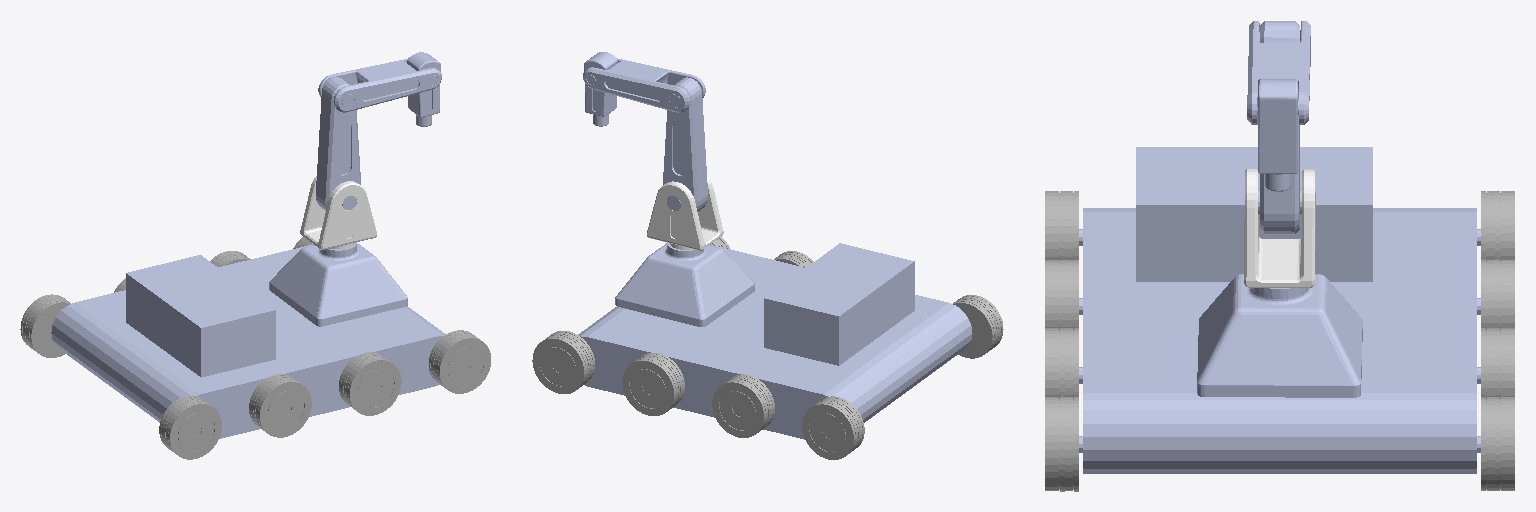
The robot description file, URDF, robot "Robot_Assembly_urdf":
<?xml version="1.0" encoding="utf-8"?>
<!-- This URDF was automatically created by SolidWorks to URDF Exporter! Originally created by [author] ([email redacted]) 
     Commit Version: 1.6.0-1-g15f4949  Build Version: 1.6.7594.29634
     For more information, please see http://wiki.ros.org/sw_urdf_exporter -->
<robot
  name="Robot_Assembly_urdf">
  <link
    name="base_link">
    <inertial>
      <origin
        xyz="-0.0188294056308936 -0.00424042114001033 0.0640742409147315"
        rpy="0 0 0" />
      <mass
        value="31.0320339728617" />
      <inertia
        ixx="0.565958898785793"
        ixy="-0.0151505883127099"
        ixz="0.0502324289297227"
        iyy="0.886935849980712"
        iyz="0.0113068755075638"
        izz="1.32772548603042" />
    </inertial>
    <visual>
      <origin
        xyz="0 0 0"
        rpy="0 0 0" />
      <geometry>
        <mesh
          filename="package://Robot_Assembly_urdf/meshes/base_link.STL" />
      </geometry>
      <material
        name="">
        <color
          rgba="0.792156862745098 0.819607843137255 0.933333333333333 1" />
      </material>
    </visual>
    <collision>
      <origin
        xyz="0 0 0"
        rpy="0 0 0" />
      <geometry>
        <mesh
          filename="package://Robot_Assembly_urdf/meshes/base_link.STL" />
      </geometry>
    </collision>
  </link>
  <link
    name="rwl_1">
    <inertial>
      <origin
        xyz="5.55111512312578E-17 -5.55111512312578E-17 -0.019892784140451"
        rpy="0 0 0" />
      <mass
        value="0.365524552938848" />
      <inertia
        ixx="0.000322146824462347"
        ixy="-8.09674537746819E-20"
        ixz="-1.56492304462249E-20"
        iyy="0.000322146824462347"
        iyz="4.53082169817295E-21"
        izz="0.000549435522875278" />
    </inertial>
    <visual>
      <origin
        xyz="0 0 0"
        rpy="0 0 0" />
      <geometry>
        <mesh
          filename="package://Robot_Assembly_urdf/meshes/rwl_1.STL" />
      </geometry>
      <material
        name="">
        <color
          rgba="0.752941176470588 0.752941176470588 0.752941176470588 1" />
      </material>
    </visual>
    <collision>
      <origin
        xyz="0 0 0"
        rpy="0 0 0" />
      <geometry>
        <mesh
          filename="package://Robot_Assembly_urdf/meshes/rwl_1.STL" />
      </geometry>
    </collision>
  </link>
  <joint
    name="rwj_1"
    type="revolute">
    <origin
      xyz="0.285 -0.274 0.05"
      rpy="1.5708 0 0" />
    <parent
      link="base_link" />
    <child
      link="rwl_1" />
    <axis
      xyz="0 0 1" />
    <limit
      lower="-3.142"
      upper="3.142"
      effort="20"
      velocity="5" />
  </joint>
  <link
    name="lwl_1">
    <inertial>
      <origin
        xyz="-5.55111512312578E-17 5.55111512312578E-17 0.0188927841404509"
        rpy="0 0 0" />
      <mass
        value="0.365524552938848" />
      <inertia
        ixx="0.000322146824462347"
        ixy="-9.82852608948411E-21"
        ixz="-3.42124149900002E-20"
        iyy="0.000322146824462347"
        iyz="7.20065742206241E-20"
        izz="0.000549435522875278" />
    </inertial>
    <visual>
      <origin
        xyz="0 0 0"
        rpy="0 0 0" />
      <geometry>
        <mesh
          filename="package://Robot_Assembly_urdf/meshes/lwl_1.STL" />
      </geometry>
      <material
        name="">
        <color
          rgba="0.752941176470588 0.752941176470588 0.752941176470588 1" />
      </material>
    </visual>
    <collision>
      <origin
        xyz="0 0 0"
        rpy="0 0 0" />
      <geometry>
        <mesh
          filename="package://Robot_Assembly_urdf/meshes/lwl_1.STL" />
      </geometry>
    </collision>
  </link>
  <joint
    name="lwj_1"
    type="revolute">
    <origin
      xyz="0.285 0.273 0.05"
      rpy="1.5708 0 0" />
    <parent
      link="base_link" />
    <child
      link="lwl_1" />
    <axis
      xyz="0 0 -1" />
    <limit
      lower="-3.142"
      upper="3.142"
      effort="20"
      velocity="5" />
  </joint>
  <link
    name="rwl_2">
    <inertial>
      <origin
        xyz="0 0 -0.0198927841404509"
        rpy="0 0 0" />
      <mass
        value="0.365524552938848" />
      <inertia
        ixx="0.000322146824462348"
        ixy="4.17711733678562E-22"
        ixz="-2.36592215475959E-20"
        iyy="0.000322146824462347"
        iyz="-1.23407737259737E-22"
        izz="0.000549435522875279" />
    </inertial>
    <visual>
      <origin
        xyz="0 0 0"
        rpy="0 0 0" />
      <geometry>
        <mesh
          filename="package://Robot_Assembly_urdf/meshes/rwl_2.STL" />
      </geometry>
      <material
        name="">
        <color
          rgba="0.752941176470588 0.752941176470588 0.752941176470588 1" />
      </material>
    </visual>
    <collision>
      <origin
        xyz="0 0 0"
        rpy="0 0 0" />
      <geometry>
        <mesh
          filename="package://Robot_Assembly_urdf/meshes/rwl_2.STL" />
      </geometry>
    </collision>
  </link>
  <joint
    name="rwj_2"
    type="revolute">
    <origin
      xyz="0.095 -0.274 0.0499999999999998"
      rpy="1.5707963267949 0 0" />
    <parent
      link="base_link" />
    <child
      link="rwl_2" />
    <axis
      xyz="0 0 1" />
    <limit
      lower="-3.142"
      upper="3.142"
      effort="20"
      velocity="5" />
  </joint>
  <link
    name="lwl_2">
    <inertial>
      <origin
        xyz="-5.55111512312578E-17 2.22044604925031E-16 0.018892784140451"
        rpy="0 0 0" />
      <mass
        value="0.365524552938848" />
      <inertia
        ixx="0.000322146824462347"
        ixy="1.46937132839652E-20"
        ixz="-7.4253389579514E-20"
        iyy="0.000322146824462347"
        iyz="4.17880014772499E-20"
        izz="0.000549435522875278" />
    </inertial>
    <visual>
      <origin
        xyz="0 0 0"
        rpy="0 0 0" />
      <geometry>
        <mesh
          filename="package://Robot_Assembly_urdf/meshes/lwl_2.STL" />
      </geometry>
      <material
        name="">
        <color
          rgba="0.752941176470588 0.752941176470588 0.752941176470588 1" />
      </material>
    </visual>
    <collision>
      <origin
        xyz="0 0 0"
        rpy="0 0 0" />
      <geometry>
        <mesh
          filename="package://Robot_Assembly_urdf/meshes/lwl_2.STL" />
      </geometry>
    </collision>
  </link>
  <joint
    name="lwj_2"
    type="revolute">
    <origin
      xyz="0.095 0.273 0.0499999999999998"
      rpy="1.5707963267949 0 0" />
    <parent
      link="base_link" />
    <child
      link="lwl_2" />
    <axis
      xyz="0 0 -1" />
    <limit
      lower="-3.142"
      upper="3.142"
      effort="20"
      velocity="5" />
  </joint>
  <link
    name="rwl_3">
    <inertial>
      <origin
        xyz="6.93889390390723E-18 -5.55111512312578E-17 -0.019892784140451"
        rpy="0 0 0" />
      <mass
        value="0.365524552938848" />
      <inertia
        ixx="0.000322146824462348"
        ixy="-1.62304834610031E-22"
        ixz="-1.2731733559271E-20"
        iyy="0.000322146824462348"
        iyz="2.03535873829037E-22"
        izz="0.000549435522875278" />
    </inertial>
    <visual>
      <origin
        xyz="0 0 0"
        rpy="0 0 0" />
      <geometry>
        <mesh
          filename="package://Robot_Assembly_urdf/meshes/rwl_3.STL" />
      </geometry>
      <material
        name="">
        <color
          rgba="0.752941176470588 0.752941176470588 0.752941176470588 1" />
      </material>
    </visual>
    <collision>
      <origin
        xyz="0 0 0"
        rpy="0 0 0" />
      <geometry>
        <mesh
          filename="package://Robot_Assembly_urdf/meshes/rwl_3.STL" />
      </geometry>
    </collision>
  </link>
  <joint
    name="rwj_3"
    type="revolute">
    <origin
      xyz="-0.095 -0.274 0.0499999999999999"
      rpy="1.5707963267949 0 0" />
    <parent
      link="base_link" />
    <child
      link="rwl_3" />
    <axis
      xyz="0 0 1" />
    <limit
      lower="-3.142"
      upper="3.142"
      effort="20"
      velocity="5" />
  </joint>
  <link
    name="lwl_3">
    <inertial>
      <origin
        xyz="-6.93889390390723E-17 2.22044604925031E-16 0.0188927841404511"
        rpy="0 0 0" />
      <mass
        value="0.365524552938848" />
      <inertia
        ixx="0.000322146824462347"
        ixy="-2.24217455227932E-21"
        ixz="-2.28467036272142E-20"
        iyy="0.000322146824462347"
        iyz="4.56494090163496E-20"
        izz="0.000549435522875278" />
    </inertial>
    <visual>
      <origin
        xyz="0 0 0"
        rpy="0 0 0" />
      <geometry>
        <mesh
          filename="package://Robot_Assembly_urdf/meshes/lwl_3.STL" />
      </geometry>
      <material
        name="">
        <color
          rgba="0.752941176470588 0.752941176470588 0.752941176470588 1" />
      </material>
    </visual>
    <collision>
      <origin
        xyz="0 0 0"
        rpy="0 0 0" />
      <geometry>
        <mesh
          filename="package://Robot_Assembly_urdf/meshes/lwl_3.STL" />
      </geometry>
    </collision>
  </link>
  <joint
    name="lwj_3"
    type="revolute">
    <origin
      xyz="-0.0949999999999999 0.273 0.0499999999999999"
      rpy="1.5707963267949 0 0" />
    <parent
      link="base_link" />
    <child
      link="lwl_3" />
    <axis
      xyz="0 0 -1" />
    <limit
      lower="-3.142"
      upper="3.142"
      effort="20"
      velocity="5" />
  </joint>
  <link
    name="rwl_4">
    <inertial>
      <origin
        xyz="2.77555756156289E-17 -5.55111512312578E-17 -0.0198927841404509"
        rpy="0 0 0" />
      <mass
        value="0.365524552938848" />
      <inertia
        ixx="0.000322146824462347"
        ixy="-8.12494296504006E-21"
        ixz="6.18409410860754E-21"
        iyy="0.000322146824462347"
        iyz="5.24692050943604E-21"
        izz="0.000549435522875278" />
    </inertial>
    <visual>
      <origin
        xyz="0 0 0"
        rpy="0 0 0" />
      <geometry>
        <mesh
          filename="package://Robot_Assembly_urdf/meshes/rwl_4.STL" />
      </geometry>
      <material
        name="">
        <color
          rgba="0.752941176470588 0.752941176470588 0.752941176470588 1" />
      </material>
    </visual>
    <collision>
      <origin
        xyz="0 0 0"
        rpy="0 0 0" />
      <geometry>
        <mesh
          filename="package://Robot_Assembly_urdf/meshes/rwl_4.STL" />
      </geometry>
    </collision>
  </link>
  <joint
    name="rwj_4"
    type="revolute">
    <origin
      xyz="-0.285 -0.274 0.0499999999999999"
      rpy="1.5707963267949 0 0" />
    <parent
      link="base_link" />
    <child
      link="rwl_4" />
    <axis
      xyz="0 0 1" />
    <limit
      lower="-3.142"
      upper="3.142"
      effort="20"
      velocity="5" />
  </joint>
  <link
    name="lwl_4">
    <inertial>
      <origin
        xyz="-1.66533453693773E-16 2.22044604925031E-16 0.0188927841404508"
        rpy="0 0 0" />
      <mass
        value="0.365524552938848" />
      <inertia
        ixx="0.000322146824462347"
        ixy="2.19601697798653E-20"
        ixz="-1.14802424331746E-20"
        iyy="0.000322146824462347"
        iyz="5.35385294899972E-20"
        izz="0.000549435522875277" />
    </inertial>
    <visual>
      <origin
        xyz="0 0 0"
        rpy="0 0 0" />
      <geometry>
        <mesh
          filename="package://Robot_Assembly_urdf/meshes/lwl_4.STL" />
      </geometry>
      <material
        name="">
        <color
          rgba="0.752941176470588 0.752941176470588 0.752941176470588 1" />
      </material>
    </visual>
    <collision>
      <origin
        xyz="0 0 0"
        rpy="0 0 0" />
      <geometry>
        <mesh
          filename="package://Robot_Assembly_urdf/meshes/lwl_4.STL" />
      </geometry>
    </collision>
  </link>
  <joint
    name="lwj_4"
    type="revolute">
    <origin
      xyz="-0.285 0.273 0.0499999999999999"
      rpy="1.5707963267949 0 0" />
    <parent
      link="base_link" />
    <child
      link="lwl_4" />
    <axis
      xyz="0 0 -1" />
    <limit
      lower="-3.142"
      upper="3.142"
      effort="20"
      velocity="5" />
  </joint>
  <link
    name="robotichandbase_Link">
    <inertial>
      <origin
        xyz="0.46 0.0914369156086379 0.273"
        rpy="0 0 0" />
      <mass
        value="2.30055456196887" />
      <inertia
        ixx="0.00675445543919116"
        ixy="9.95871935182872E-19"
        ixz="2.37960604275706E-11"
        iyy="0.0103948670468881"
        iyz="2.23587162465854E-18"
        izz="0.00675445488587375" />
    </inertial>
    <visual>
      <origin
        xyz="0 0 0"
        rpy="0 0 0" />
      <geometry>
        <mesh
          filename="package://Robot_Assembly_urdf/meshes/robotichandbase_Link.STL" />
      </geometry>
      <material
        name="">
        <color
          rgba="0.792156862745098 0.819607843137255 0.933333333333333 1" />
      </material>
    </visual>
    <collision>
      <origin
        xyz="0 0 0"
        rpy="0 0 0" />
      <geometry>
        <mesh
          filename="package://Robot_Assembly_urdf/meshes/robotichandbase_Link.STL" />
      </geometry>
    </collision>
  </link>
  <joint
    name="rhb_joint"
    type="revolute">
    <origin
      xyz="-0.285 0.273 0.0499999999999999"
      rpy="1.5707963267949 0 0" />
    <parent
      link="base_link" />
    <child
      link="robotichandbase_Link" />
    <axis
      xyz="0 1 0" />
    <limit
      lower="-3.142"
      upper="3.142"
      effort="30"
      velocity="2" />
  </joint>
  <link
    name="rhl_1">
    <inertial>
      <origin
        xyz="0.460000000000451 0.212558646903459 0.27299999995956"
        rpy="0 0 0" />
      <mass
        value="0.414794961870069" />
      <inertia
        ixx="0.00092540568481972"
        ixy="2.91756185187478E-15"
        ixz="3.71920186273293E-07"
        iyy="0.000690739956951653"
        iyz="-2.62240403721062E-13"
        izz="0.000893261991941587" />
    </inertial>
    <visual>
      <origin
        xyz="0 0 0"
        rpy="0 0 0" />
      <geometry>
        <mesh
          filename="package://Robot_Assembly_urdf/meshes/rhl_1.STL" />
      </geometry>
      <material
        name="">
        <color
          rgba="1 1 1 1" />
      </material>
    </visual>
    <collision>
      <origin
        xyz="0 0 0"
        rpy="0 0 0" />
      <geometry>
        <mesh
          filename="package://Robot_Assembly_urdf/meshes/rhl_1.STL" />
      </geometry>
    </collision>
  </link>
  <joint
    name="rhj_1"
    type="revolute">
    <origin
      xyz="0 0 0"
      rpy="0 0 0" />
    <parent
      link="robotichandbase_Link" />
    <child
      link="rhl_1" />
    <axis
      xyz="0 1 0" />
    <limit
      lower="-1.157"
      upper="1.157"
      effort="20"
      velocity="2" />
  </joint>
  <link
    name="rhl_2">
    <inertial>
      <origin
        xyz="0.46 0.346729118224483 0.273"
        rpy="0 0 0" />
      <mass
        value="0.749831038851392" />
      <inertia
        ixx="0.00444464897584612"
        ixy="-9.02352553466764E-20"
        ixz="-1.13573510001705E-06"
        iyy="0.000401130821623719"
        iyz="-1.17910062361894E-19"
        izz="0.0045428063673886" />
    </inertial>
    <visual>
      <origin
        xyz="0 0 0"
        rpy="0 0 0" />
      <geometry>
        <mesh
          filename="package://Robot_Assembly_urdf/meshes/rhl_2.STL" />
      </geometry>
      <material
        name="">
        <color
          rgba="0.792156862745098 0.819607843137255 0.933333333333333 1" />
      </material>
    </visual>
    <collision>
      <origin
        xyz="0 0 0"
        rpy="0 0 0" />
      <geometry>
        <mesh
          filename="package://Robot_Assembly_urdf/meshes/rhl_2.STL" />
      </geometry>
    </collision>
  </link>
  <joint
    name="rhj_2"
    type="revolute">
    <origin
      xyz="0 0 0"
      rpy="0 0 0" />
    <parent
      link="rhl_1" />
    <child
      link="rhl_2" />
    <axis
      xyz="-0.011568 0 0.99993" />
    <limit
      lower="-1.157"
      upper="1.157"
      effort="20"
      velocity="2" />
  </joint>
  <link
    name="rhl_3">
    <inertial>
      <origin
        xyz="0.551606164015692 0.46576 0.274059791924668"
        rpy="0 0 0" />
      <mass
        value="0.37932549915381" />
      <inertia
        ixx="0.000260591433644554"
        ixy="-1.41381449750956E-13"
        ixz="-7.21355886503767E-06"
        iyy="0.00100456825947825"
        iyz="1.22207135314351E-11"
        izz="0.000884032693776069" />
    </inertial>
    <visual>
      <origin
        xyz="0 0 0"
        rpy="0 0 0" />
      <geometry>
        <mesh
          filename="package://Robot_Assembly_urdf/meshes/rhl_3.STL" />
      </geometry>
      <material
        name="">
        <color
          rgba="0.792156862745098 0.819607843137255 0.933333333333333 1" />
      </material>
    </visual>
    <collision>
      <origin
        xyz="0 0 0"
        rpy="0 0 0" />
      <geometry>
        <mesh
          filename="package://Robot_Assembly_urdf/meshes/rhl_3.STL" />
      </geometry>
    </collision>
  </link>
  <joint
    name="rhj_3"
    type="revolute">
    <origin
      xyz="0 0 0"
      rpy="0 0 0" />
    <parent
      link="rhl_2" />
    <child
      link="rhl_3" />
    <axis
      xyz="-0.011568 0 0.99993" />
    <limit
      lower="-1.157"
      upper="1.157"
      effort="20"
      velocity="2" />
  </joint>
  <link
    name="rhl_4">
    <inertial>
      <origin
        xyz="0.639188008977052 0.439303847201513 0.275073026492832"
        rpy="0 0 0" />
      <mass
        value="0.242899822873843" />
      <inertia
        ixx="0.000338129094412127"
        ixy="2.61076496315959E-19"
        ixz="8.93158131565499E-08"
        iyy="8.13172118318468E-05"
        iyz="-5.23041064626997E-20"
        izz="0.000330409858436411" />
    </inertial>
    <visual>
      <origin
        xyz="0 0 0"
        rpy="0 0 0" />
      <geometry>
        <mesh
          filename="package://Robot_Assembly_urdf/meshes/rhl_4.STL" />
      </geometry>
      <material
        name="">
        <color
          rgba="0.792156862745098 0.819607843137255 0.933333333333333 1" />
      </material>
    </visual>
    <collision>
      <origin
        xyz="0 0 0"
        rpy="0 0 0" />
      <geometry>
        <mesh
          filename="package://Robot_Assembly_urdf/meshes/rhl_4.STL" />
      </geometry>
    </collision>
  </link>
  <joint
    name="rhj_4"
    type="revolute">
    <origin
      xyz="0 0 0"
      rpy="0 0 0" />
    <parent
      link="rhl_3" />
    <child
      link="rhl_4" />
    <axis
      xyz="-0.011568 0 0.99993" />
    <limit
      lower="0"
      upper="3.142"
      effort="10"
      velocity="2" />
  </joint>
</robot>

--- What the picture shows (computed from the rendered views, not written in the file) ---
Views: 3 orthographic renders of the robot side by side, from view 1: azimuth 30°, elevation 25°; view 2: azimuth 150°, elevation 25°; view 3: azimuth 270°, elevation 25°.
Robot: Robot_Assembly_urdf — 14 links, 13 joints (13 revolute); root link base_link; default pose: every joint at zero.
Visible links, largest first — view 1: base_link, robotichandbase_Link, rhl_2, rhl_1, rhl_3, rwl_3, rwl_4, rwl_2, rwl_1, lwl_4, rhl_4; view 2: base_link, robotichandbase_Link, rhl_2, rhl_1, rhl_3, lwl_2, lwl_4, lwl_3, lwl_1, rwl_4, rhl_4; view 3: base_link, robotichandbase_Link, rhl_1, rhl_4, rhl_3, rwl_1, lwl_1, rhl_2, rwl_2, lwl_2, rwl_4, lwl_4 (+2 smaller).
Link boxes in pixels (x1,y1,x2,y2): base_link: [51, 245, 445, 438]; robotichandbase_Link: [269, 242, 407, 326]; rhl_2: [316, 77, 360, 210]; rhl_1: [300, 176, 376, 249]; rhl_3: [318, 59, 441, 112]; rwl_3: [249, 374, 311, 437]; rwl_4: [159, 396, 221, 459]; rwl_2: [339, 352, 401, 415]; rwl_1: [429, 330, 490, 393]; lwl_4: [20, 294, 70, 357]; rhl_4: [407, 52, 440, 126]; base_link: [578, 243, 972, 439]; robotichandbase_Link: [615, 243, 754, 326]; rhl_2: [663, 77, 707, 211]; rhl_1: [647, 176, 723, 250]; rhl_3: [583, 58, 705, 112]; lwl_2: [622, 353, 684, 415]; lwl_4: [802, 396, 864, 459]; lwl_3: [712, 374, 774, 437]; lwl_1: [532, 331, 594, 393]; rwl_4: [953, 295, 1003, 358]; rhl_4: [584, 52, 617, 126]; base_link: [1079, 147, 1480, 473]; robotichandbase_Link: [1197, 274, 1362, 397]; rhl_1: [1244, 169, 1315, 287]; rhl_4: [1257, 79, 1298, 191]; rhl_3: [1247, 21, 1310, 124]; rwl_1: [1045, 397, 1078, 491]; lwl_1: [1481, 397, 1514, 490]; rhl_2: [1258, 21, 1301, 234]; rwl_2: [1045, 328, 1078, 398]; lwl_2: [1481, 328, 1514, 398]; rwl_4: [1045, 191, 1078, 260]; lwl_4: [1481, 191, 1514, 260].
Size in the robot's own frame: 0.7181 by 0.548 by 0.554 metres.
Meshes: 14 distinct files referenced, 14 mesh visuals loaded (14 binary STL).
